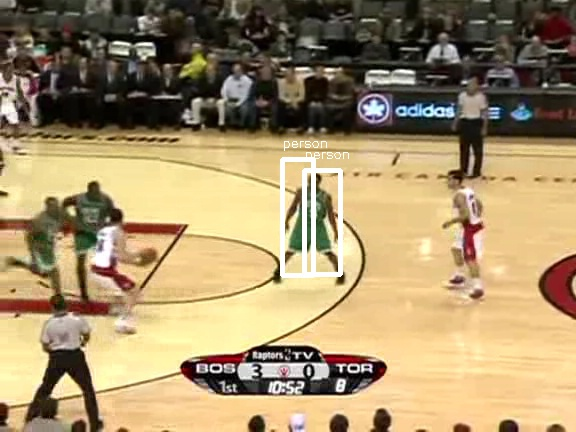person: (297, 182, 331, 263), (296, 182, 330, 263), (298, 182, 332, 263), (297, 181, 331, 262), (297, 183, 331, 264)
target_negative: (232, 192, 571, 298), (94, 275, 177, 393), (474, 304, 532, 371), (424, 33, 488, 47), (33, 388, 65, 402), (39, 360, 164, 363)
